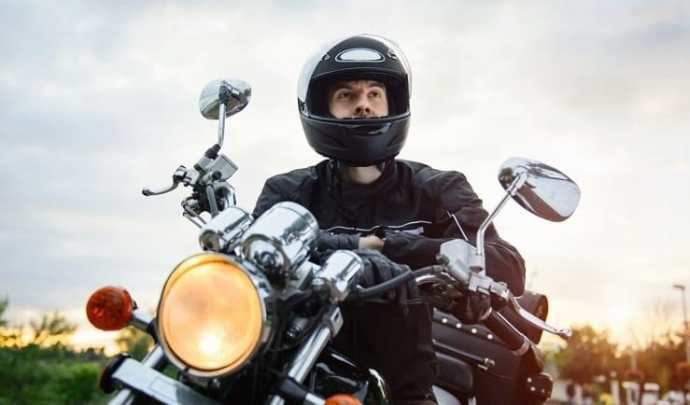helmet: (295, 34, 413, 148)
